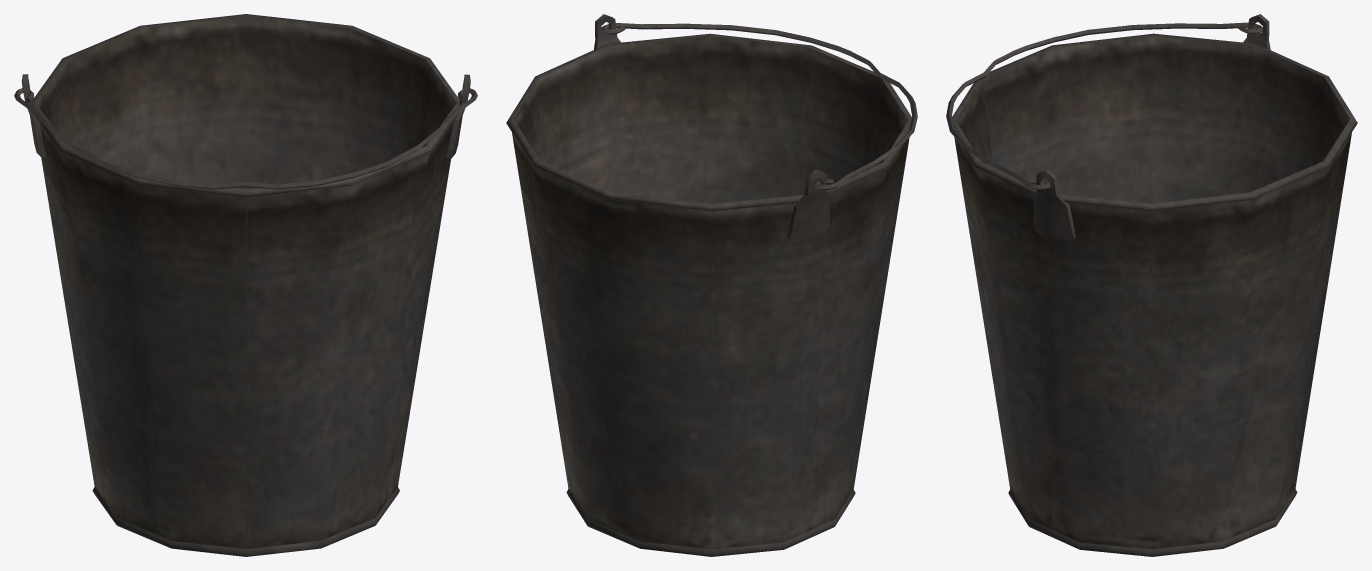
File: bucket_mx_3.obj
3 renders of one model, left to right at view 1: azimuth 30°, elevation 25°; view 2: azimuth 150°, elevation 25°; view 3: azimuth 270°, elevation 25°, orthographic. The views are drawn at different scales.
Parts seen in each view (by area): view 1: bucket_mx_3; view 2: bucket_mx_3; view 3: bucket_mx_3.
Part boxes in pixels (left/top/right/bottom): bucket_mx_3: left=14, top=14, right=477, bottom=556; bucket_mx_3: left=506, top=14, right=917, bottom=556; bucket_mx_3: left=946, top=14, right=1357, bottom=556.
Size of the model in its own units: 0.4299 by 0.4651 by 0.4298.
